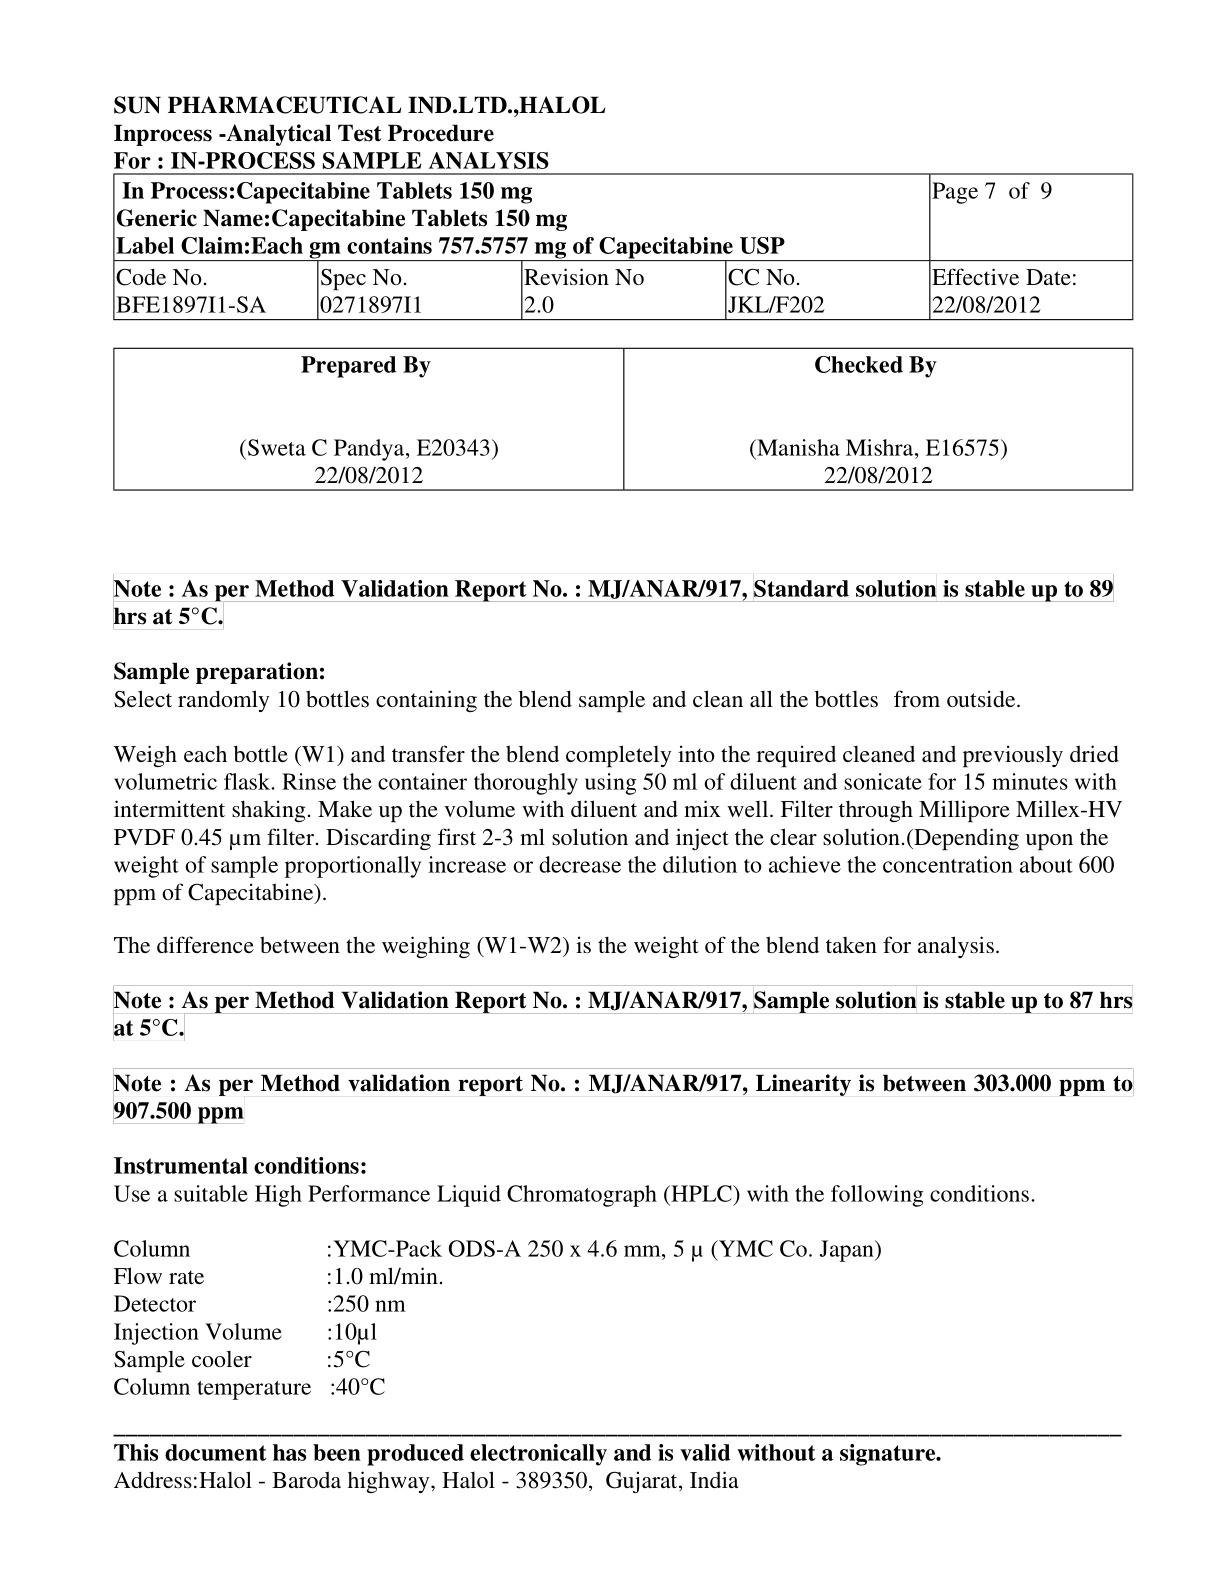merged_cells: (113, 172, 1134, 321)
nolines: (111, 1234, 886, 1401)
partial_lined: (113, 346, 1134, 491)
